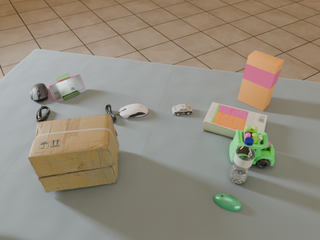book: (202, 102, 267, 140)
bottle: (229, 137, 255, 184)
box: (28, 114, 119, 193), (238, 50, 284, 111)
mouse: (214, 193, 242, 211), (119, 104, 148, 118), (30, 83, 48, 101)
phone: (49, 74, 85, 101)
toy_car: (229, 125, 274, 168), (172, 104, 193, 116)
